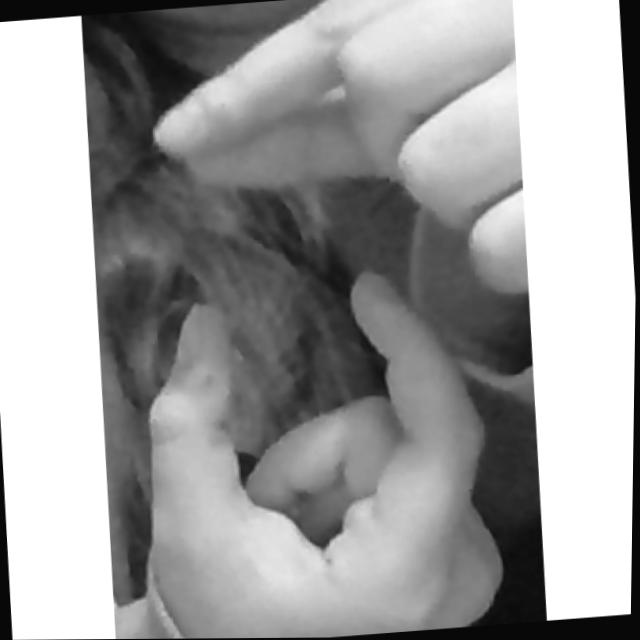U--: (113, 0, 554, 639)
